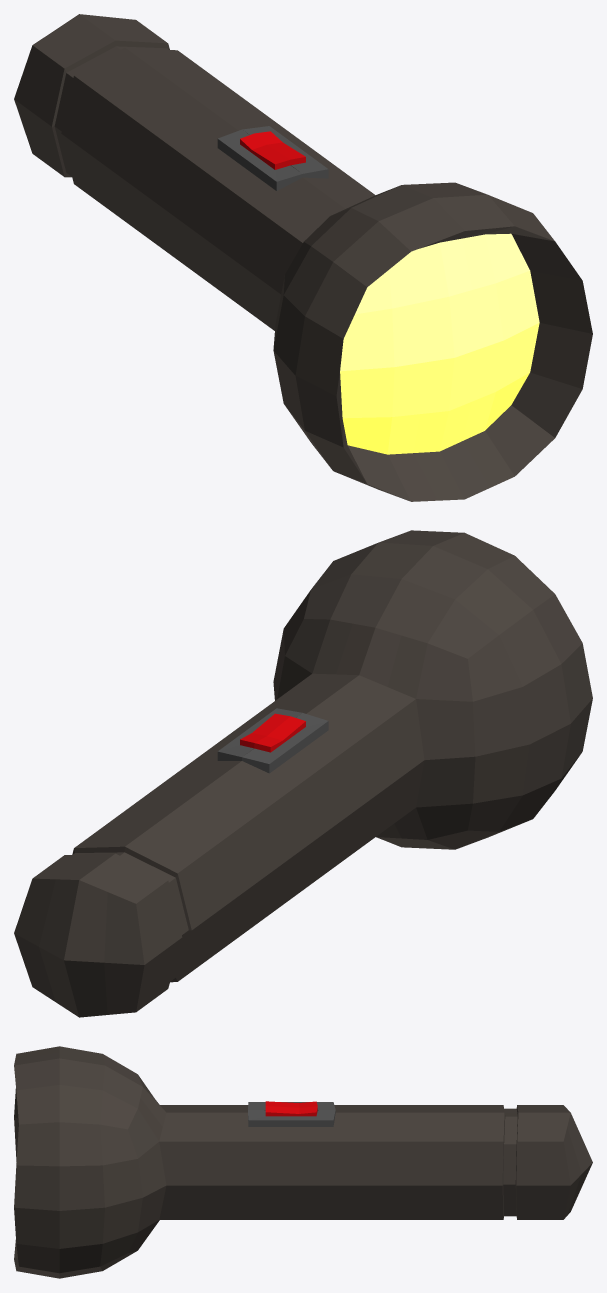
File: Flashlight.fbx
3 views of the same model, one above another, from view 1: azimuth 30°, elevation 25°; view 2: azimuth 150°, elevation 25°; view 3: azimuth 270°, elevation 25° (orthographic). The views are drawn at different scales.
Parts seen in each view (by area): view 1: Body, Lampe, Schalterbody, Schalter; view 2: Body, Schalterbody, Schalter; view 3: Body, Schalterbody, Schalter.
Part boxes in pixels (left/top/right/bottom): Body: left=14, top=14, right=592, bottom=501; Lampe: left=340, top=233, right=539, bottom=454; Schalterbody: left=217, top=126, right=328, bottom=190; Schalter: left=240, top=131, right=305, bottom=169; Body: left=14, top=530, right=592, bottom=1017; Schalterbody: left=217, top=708, right=328, bottom=773; Schalter: left=240, top=713, right=305, bottom=752; Body: left=14, top=1046, right=592, bottom=1278; Schalterbody: left=248, top=1102, right=335, bottom=1126; Schalter: left=265, top=1101, right=317, bottom=1116.
Bounding box in the file's own units: 168 × 168 × 423.
